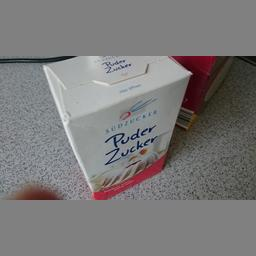sugar: (41, 55, 192, 198)
